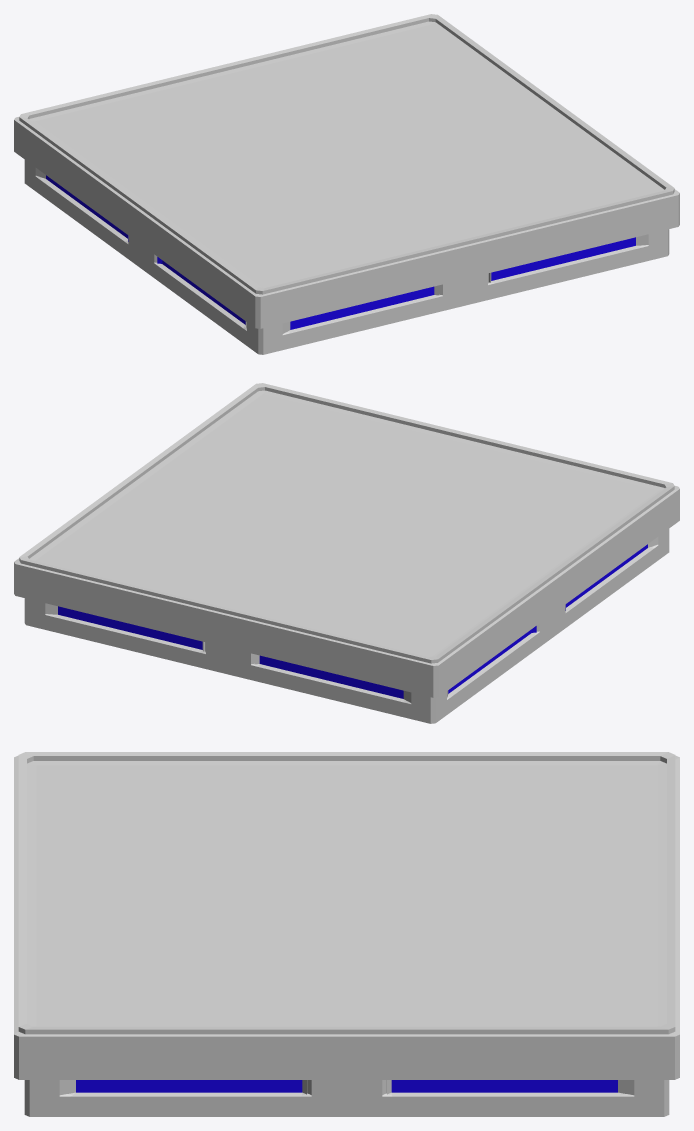
Rendered from cyberpunk tile2.fbx.
3 renders of one model, top to bottom at view 1: azimuth 30°, elevation 25°; view 2: azimuth 150°, elevation 25°; view 3: azimuth 270°, elevation 25°, orthographic. The views are drawn at different scales.
Parts seen in each view (by area): view 1: Cube; view 2: Cube; view 3: Cube.
Part boxes in pixels (x1=…): Cube: x1=14, y1=14, x2=679, y2=354; Cube: x1=14, y1=383, x2=679, y2=723; Cube: x1=14, y1=752, x2=679, y2=1116.
Bounding box in the file's own units: 426 × 63.83 × 426.
